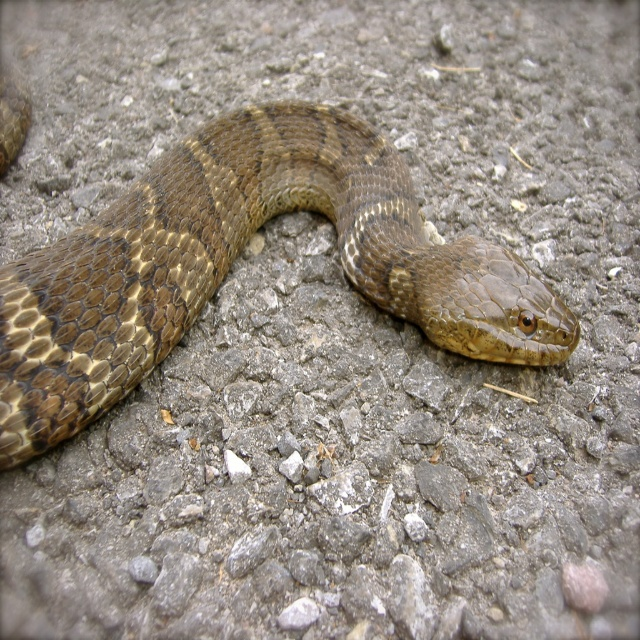Snake: (0, 57, 580, 474)
